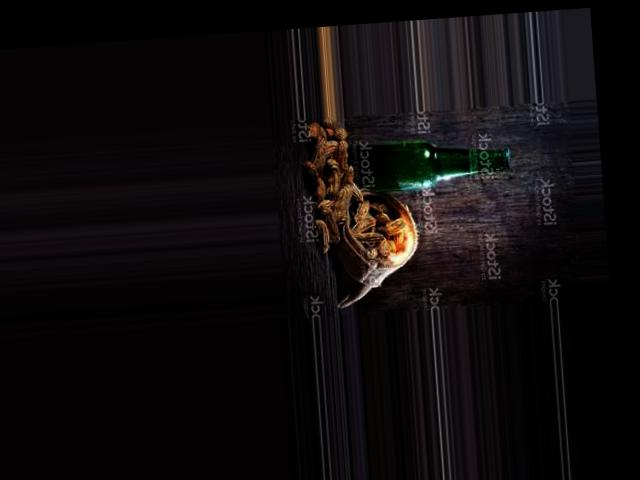beer: (334, 134, 512, 195)
